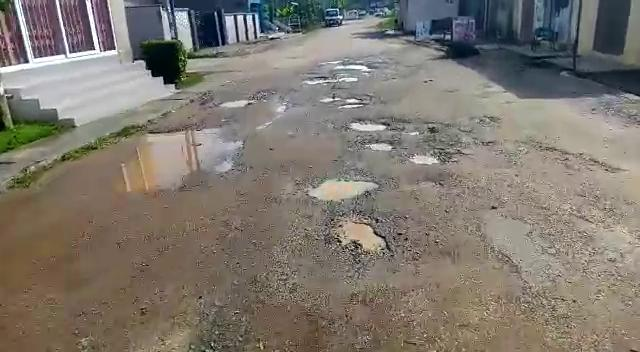pothole: (62, 132, 248, 199), (323, 212, 394, 261), (304, 174, 381, 200), (406, 148, 462, 165), (319, 94, 367, 109), (343, 119, 391, 133), (302, 75, 359, 85), (361, 138, 398, 151), (220, 97, 258, 108)
